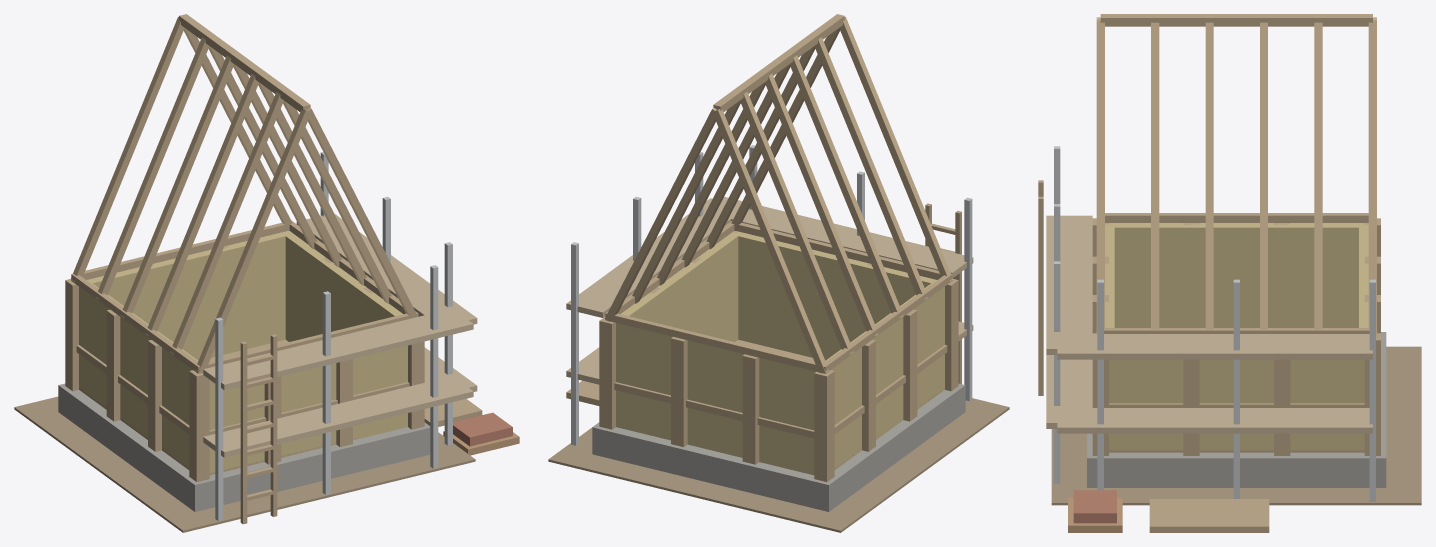
Rendered from chicken_coop_site_9.glb.
3 views of the same model, side by side, from view 1: azimuth 30°, elevation 25°; view 2: azimuth 150°, elevation 25°; view 3: azimuth 270°, elevation 25° (orthographic). The views are drawn at different scales.
Visible parts, largest first — view 1: body; view 2: body; view 3: body.
Part boxes in pixels (x1,y1,x2,y2): body: (14, 14, 519, 532); body: (548, 14, 1009, 532); body: (1038, 14, 1421, 532).
Size of the model in its own units: 1.6 by 1.67 by 1.41.
